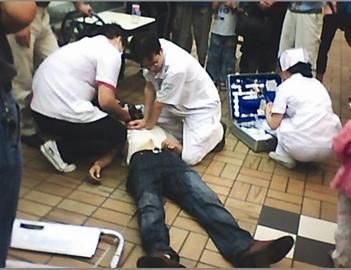10+: (1, 1, 349, 267)
down: (79, 95, 301, 270)
